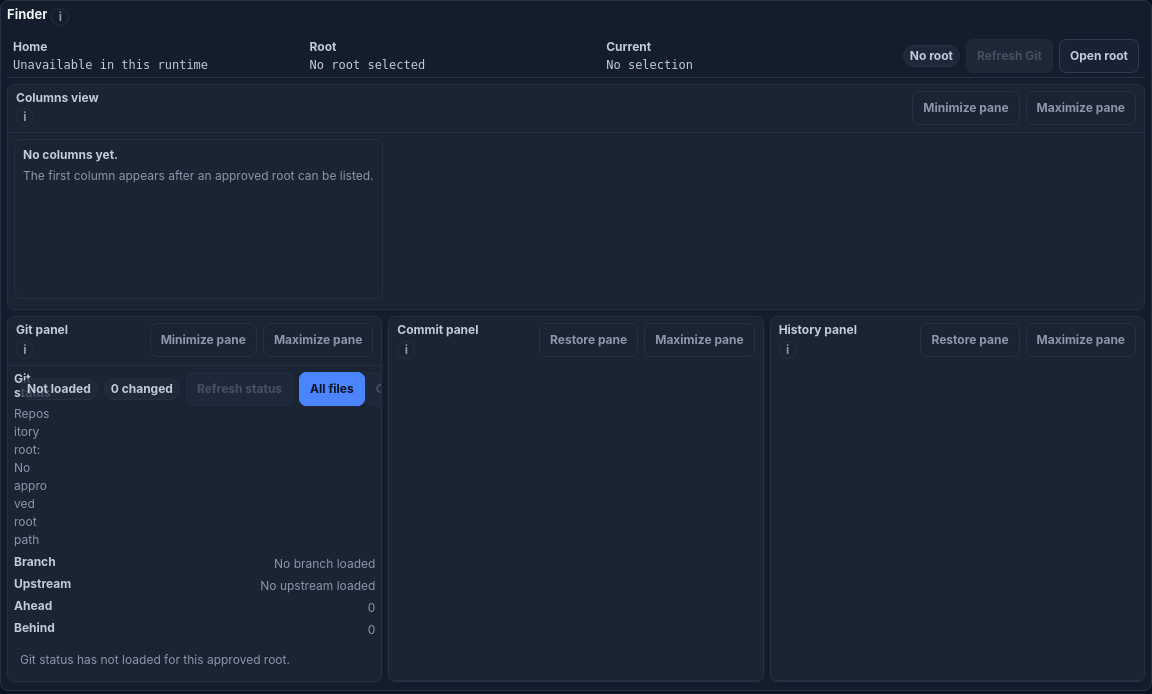
Test case: FinderWidget › creates a manual Knowledge Queue task from a selected Finder folder
This screenshot has width=1152, height=694.
Click the button "Open root" at (1099, 56), box [1059,39,1139,73]
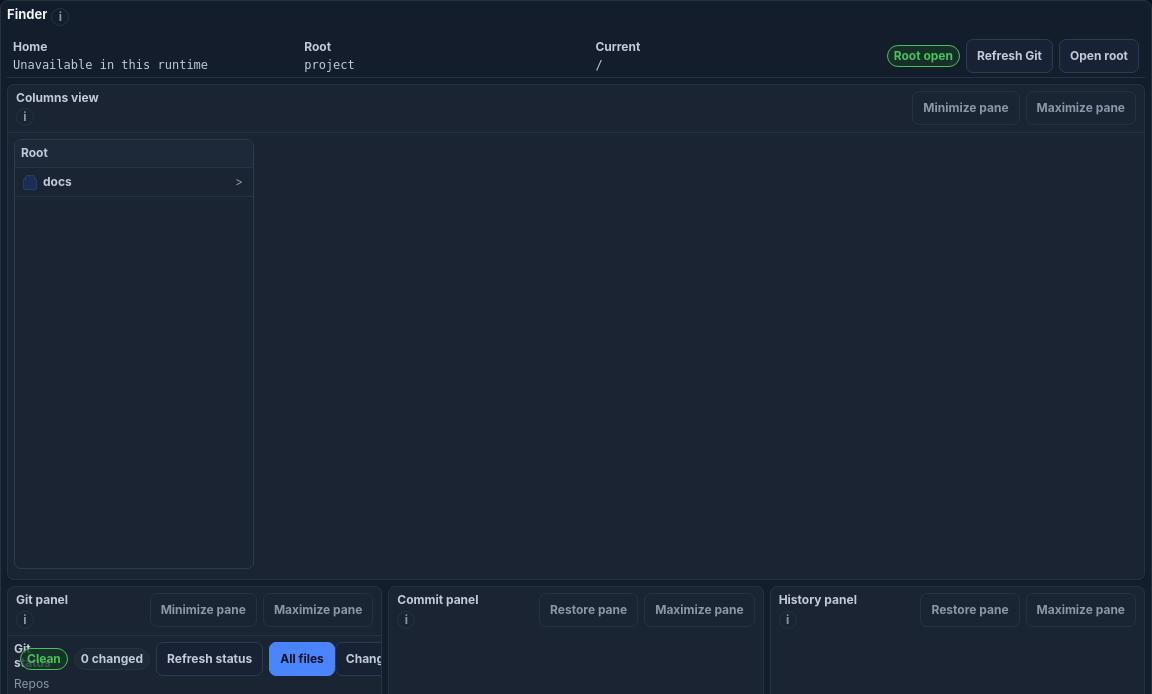
Click the button "docs >" at (134, 182), box [15,168,253,197]
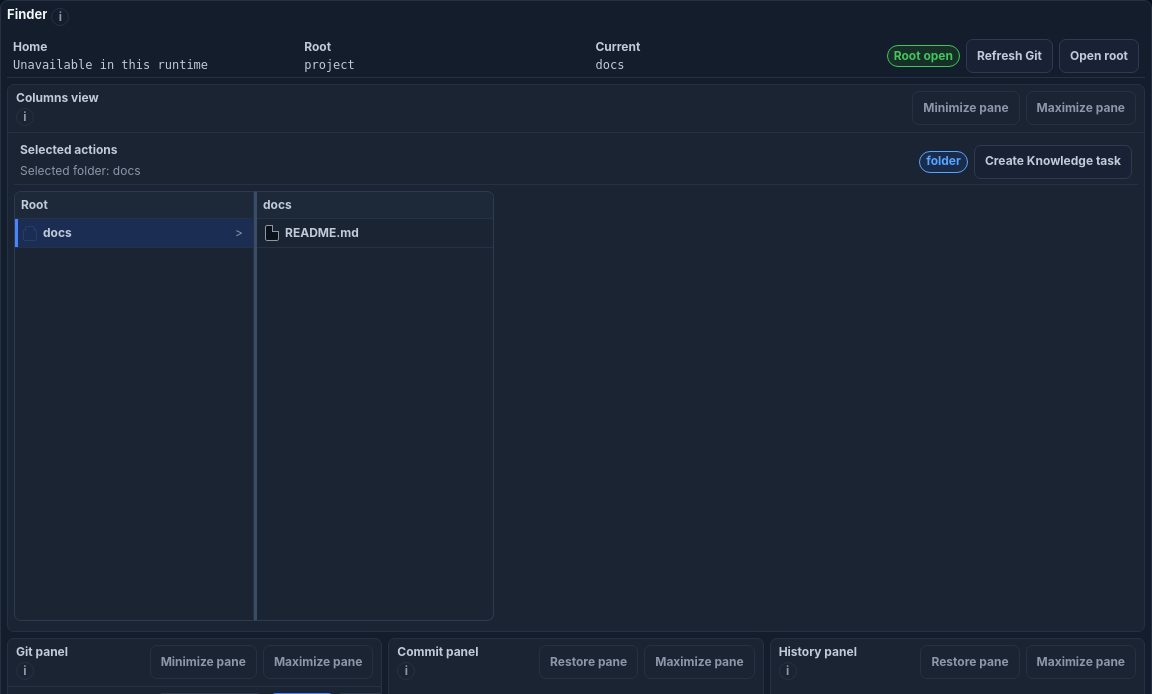
Click the button "Create Knowledge task" at (1053, 162), box [974,145,1132,179]
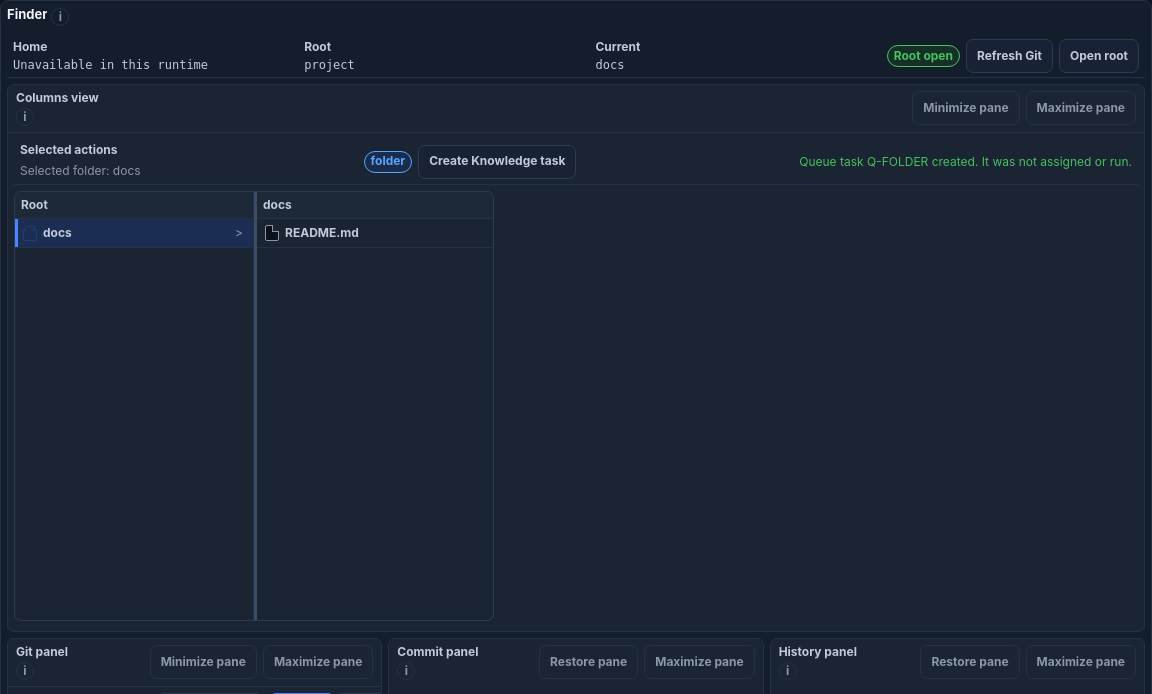
Result: the text "Queue task Q-FOLDER created. It was not assigned or run." is shown at [799,153,1132,171]
